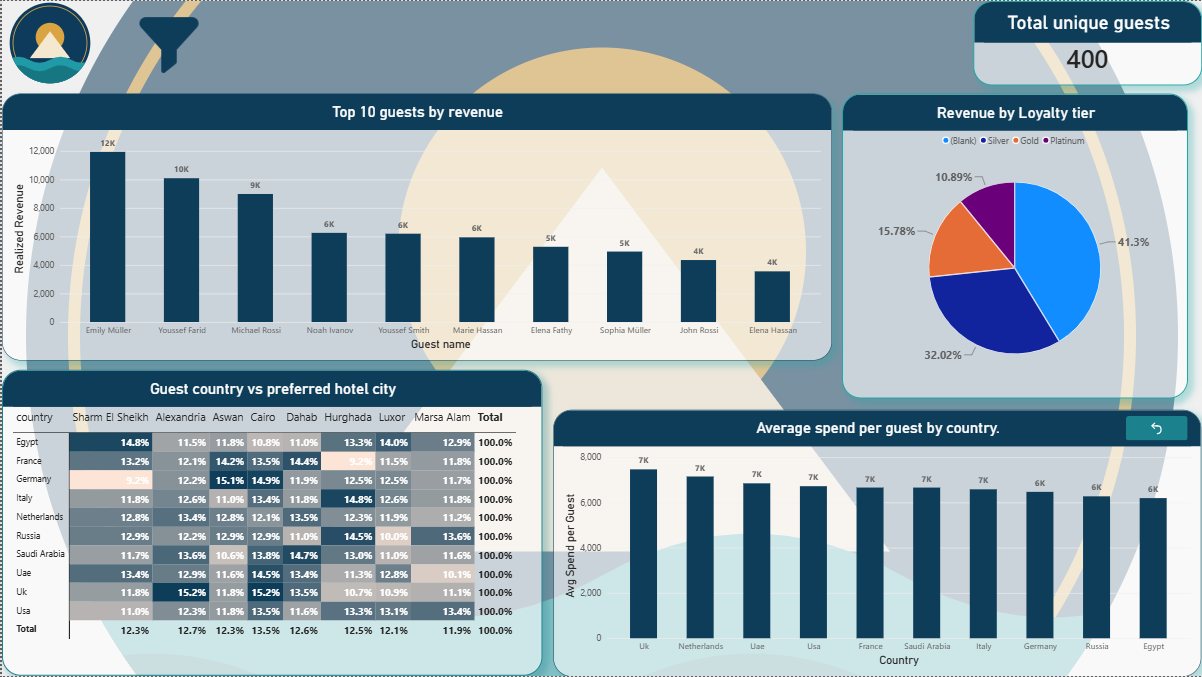

The dashboard page shown, as its layout file describes it:
{"tool":"powerbi","page":{"name":"Guests","canvas":[1920,1080],"ordinal":5},"visuals":[{"type":"card","title":"Total unique guests","fields":{"Values":["Count(dim_guest.guest_id)"]},"box":[1553.9,0,366,135.3],"z":0},{"type":"pieChart","title":"Revenue by Loyalty tier","fields":{"Category":["dim_guest.loyalty_tier"],"Y":["Measures Table.Total Revenue"]},"box":[1343.9,148.4,553.5,488],"z":1000},{"type":"columnChart","title":"Top 10 guests by revenue","fields":{"Category":["dim_guest.name"],"Y":["Measures Table.Realized Revenue"]},"box":[0,148.4,1327.9,427.3],"z":2000},{"type":"image","box":[0,0,153,134.3],"z":3000},{"type":"columnChart","title":"Average spend per guest by country.","fields":{"Category":["dim_guest.country"],"Y":["Measures Table.Avg Spend per Guest"]},"box":[882.6,653.9,1037,427.3],"z":5000},{"type":"actionButton","title":"Button Revenue by Guest ","box":[1798.8,663.8,99.1,39.3],"z":6000},{"type":"pivotTable","title":"Guest country vs preferred hotel city ","fields":{"Columns":["dim_hotel.city"],"Rows":["dim_guest.country"],"Values":["Measures Table.Share of Country Bookings"]},"box":[0,589.7,864.5,489.4],"z":8000},{"type":"image","title":"Filter Button 4","box":[196.6,12,142.4,112.3],"z":9000}]}

Visuals, with their boxes in screenshot pixels (x1, y1, x2, y2), scaled from the page's 1920x1080 canvas onto the 1202x677 screenshot:
"Total unique guests" card: region(973, 0, 1201, 85)
"Revenue by Loyalty tier" pieChart: region(841, 93, 1188, 399)
"Top 10 guests by revenue" columnChart: region(0, 93, 831, 361)
image: region(0, 0, 96, 84)
"Average spend per guest by country." columnChart: region(553, 410, 1201, 676)
"Button Revenue by Guest " actionButton: region(1126, 416, 1188, 441)
"Guest country vs preferred hotel city " pivotTable: region(0, 370, 541, 676)
"Filter Button 4" image: region(123, 8, 212, 78)
